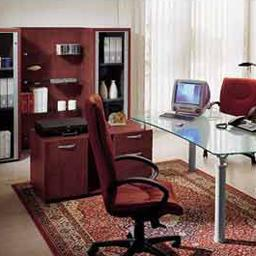Ventana: (145, 1, 239, 102)
